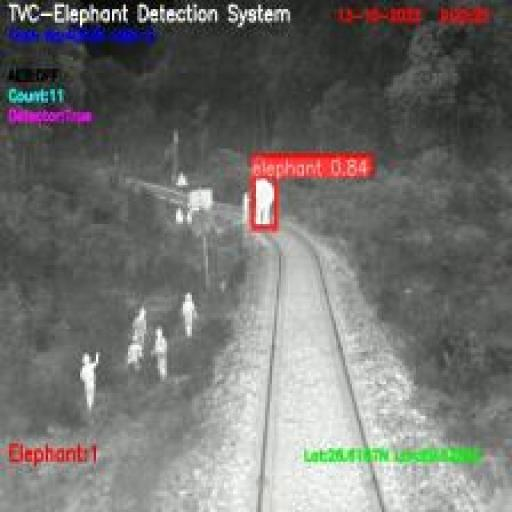Elephant: (252, 176, 276, 230)
